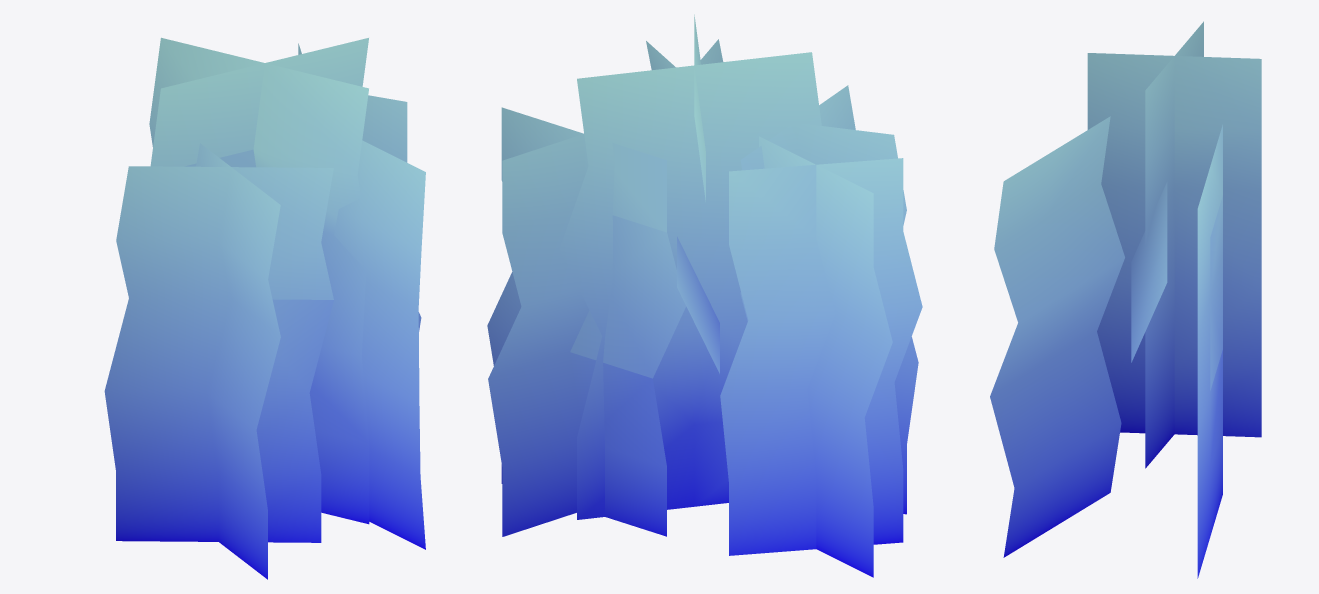
The model's file is SM_Env_Seaweed_02.glb.
3 renders of one model, left to right at view 1: azimuth 30°, elevation 25°; view 2: azimuth 150°, elevation 25°; view 3: azimuth 270°, elevation 25°, orthographic.
Parts seen in each view (by area): view 1: SM_Env_Seaweed_02_LOD0; view 2: SM_Env_Seaweed_02_LOD0; view 3: SM_Env_Seaweed_02_LOD0.
Boxes of the visible parts, x1,y1,x2,y2 form: SM_Env_Seaweed_02_LOD0: [104, 37, 425, 579]; SM_Env_Seaweed_02_LOD0: [487, 14, 922, 577]; SM_Env_Seaweed_02_LOD0: [990, 21, 1261, 578].
Size of what is drawn, in the model's own units: 2.14 by 2.2 by 1.63.
